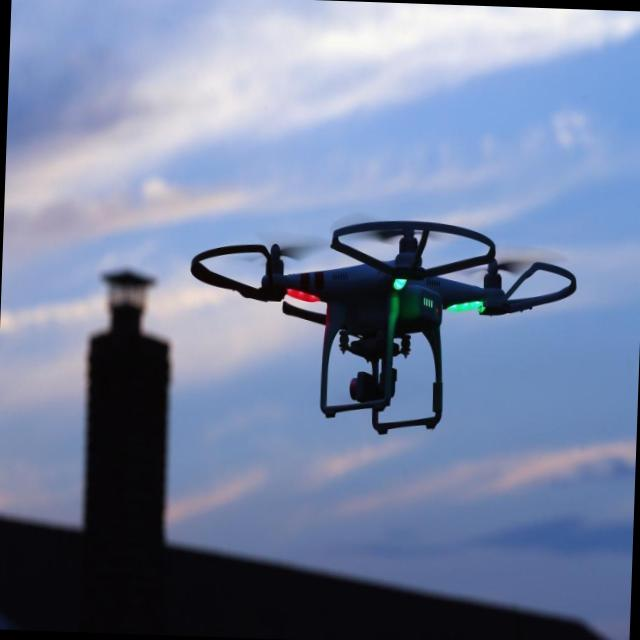drone: (190, 208, 582, 440)
